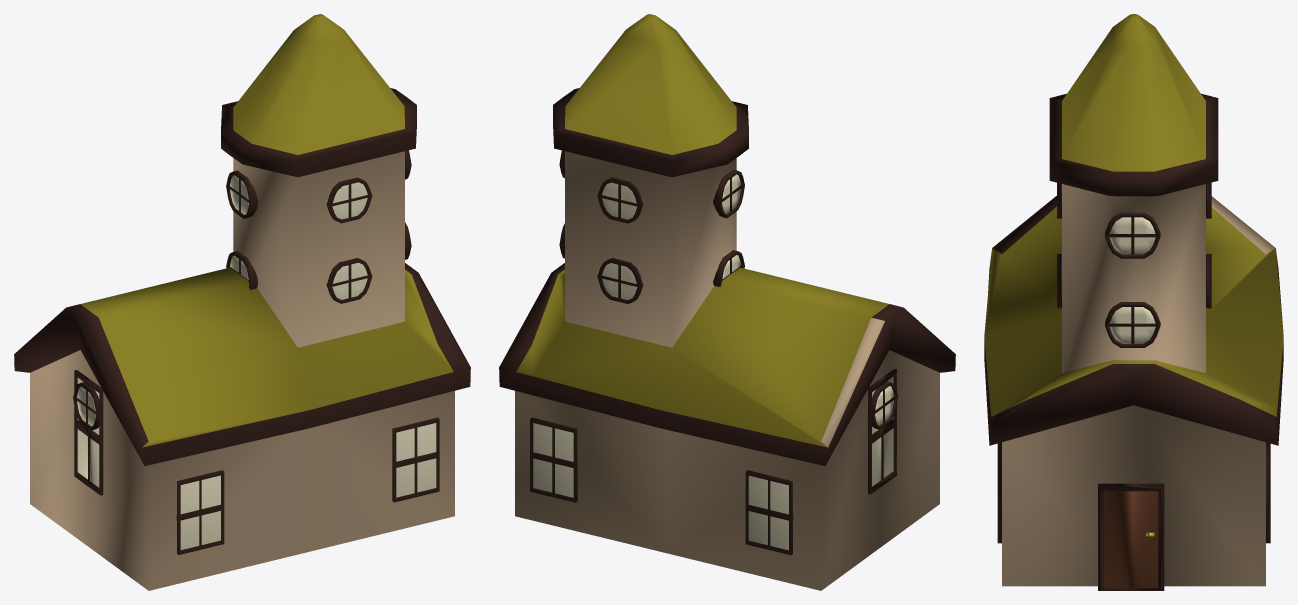
File: Kilise.fbx
The picture shows the model from 3 angles, left to right: view 1: azimuth 30°, elevation 25°; view 2: azimuth 150°, elevation 25°; view 3: azimuth 270°, elevation 25°; orthographic projection. The views are drawn at different scales.
Visible parts, largest first — view 1: Kilise; view 2: Kilise; view 3: Kilise.
Boxes of the visible parts, box(x1,y1,x2,y2) form: Kilise: box(14, 14, 470, 590); Kilise: box(499, 14, 955, 590); Kilise: box(984, 14, 1283, 590).
Size of the model in its own units: 1403 by 1914 by 980.
